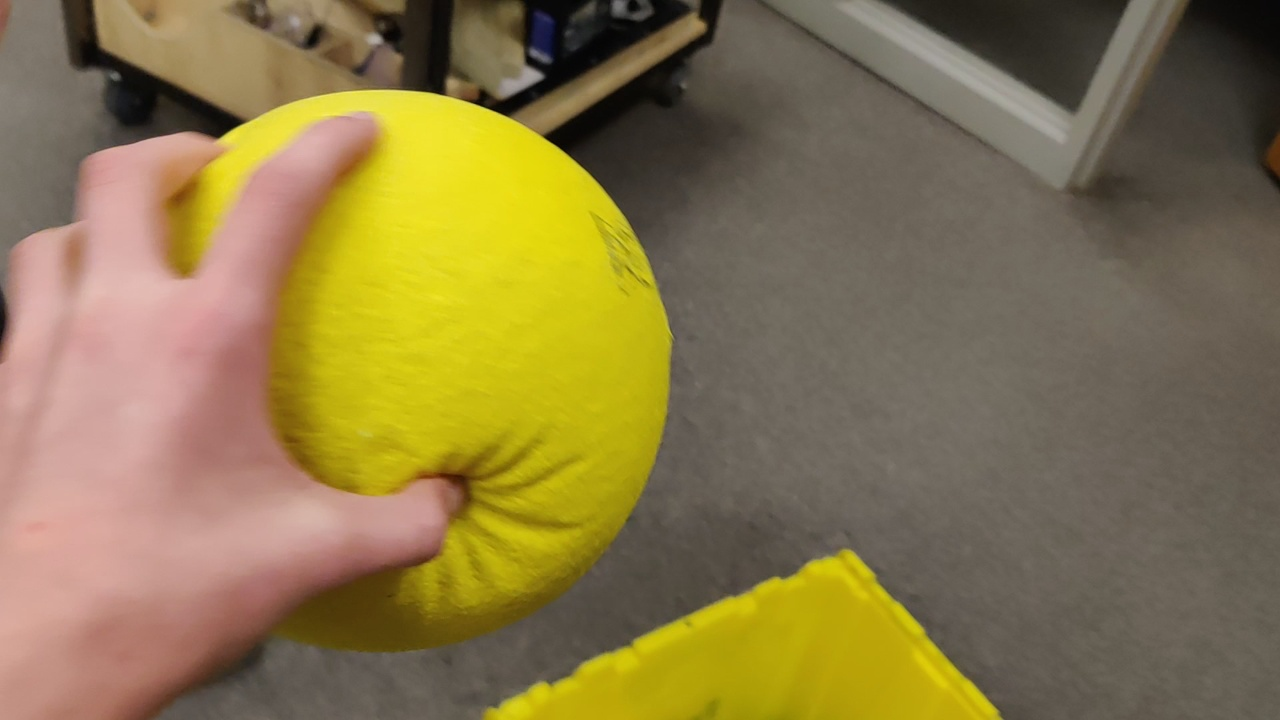Ball: (282, 87, 678, 497)
